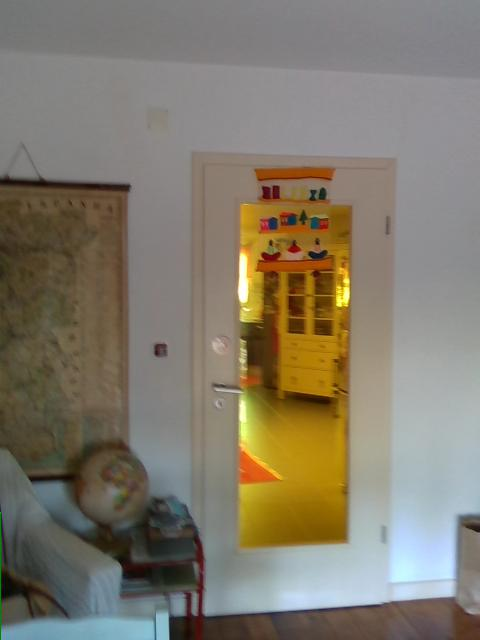door: (203, 164, 382, 612)
